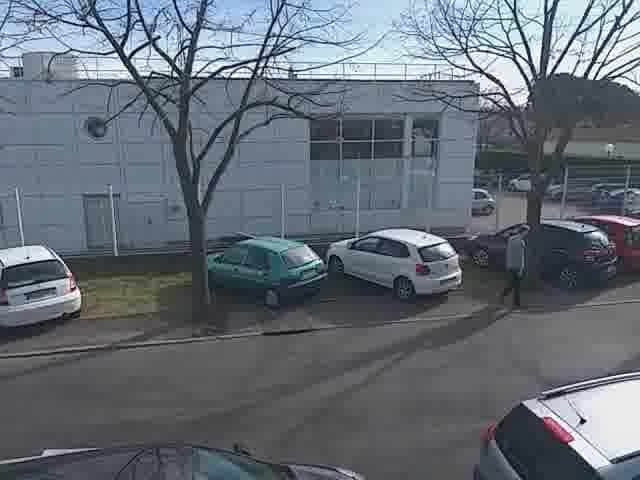persona: (486, 219, 533, 311)
